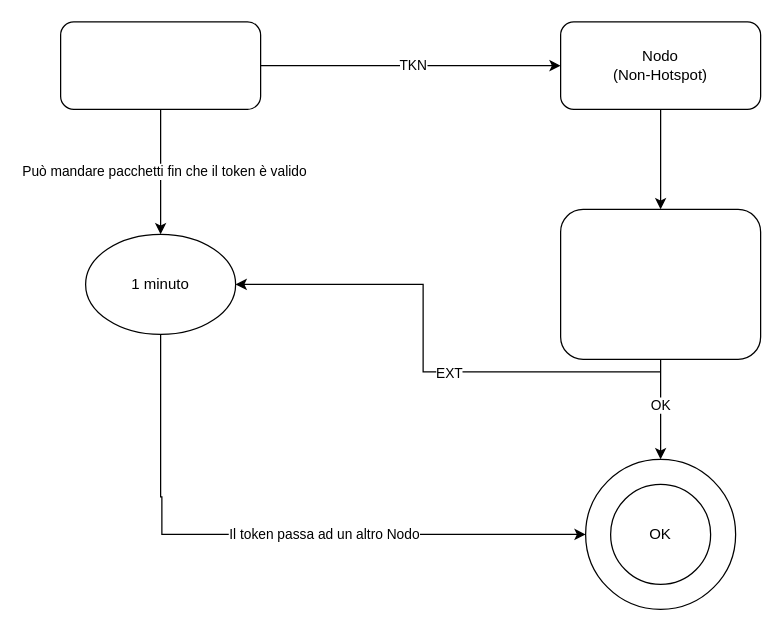
Some shapes in this 783 by 631 pixel diagram are drawn without their labels. The shapes that lost their labels are listed below. From the top down, each one's box as (x1, y1, x2, y2) in pixels, then its label:
(59, 21, 261, 109): Hotspot
(559, 208, 761, 359): Invia EXT per estendere, OK per confermare
